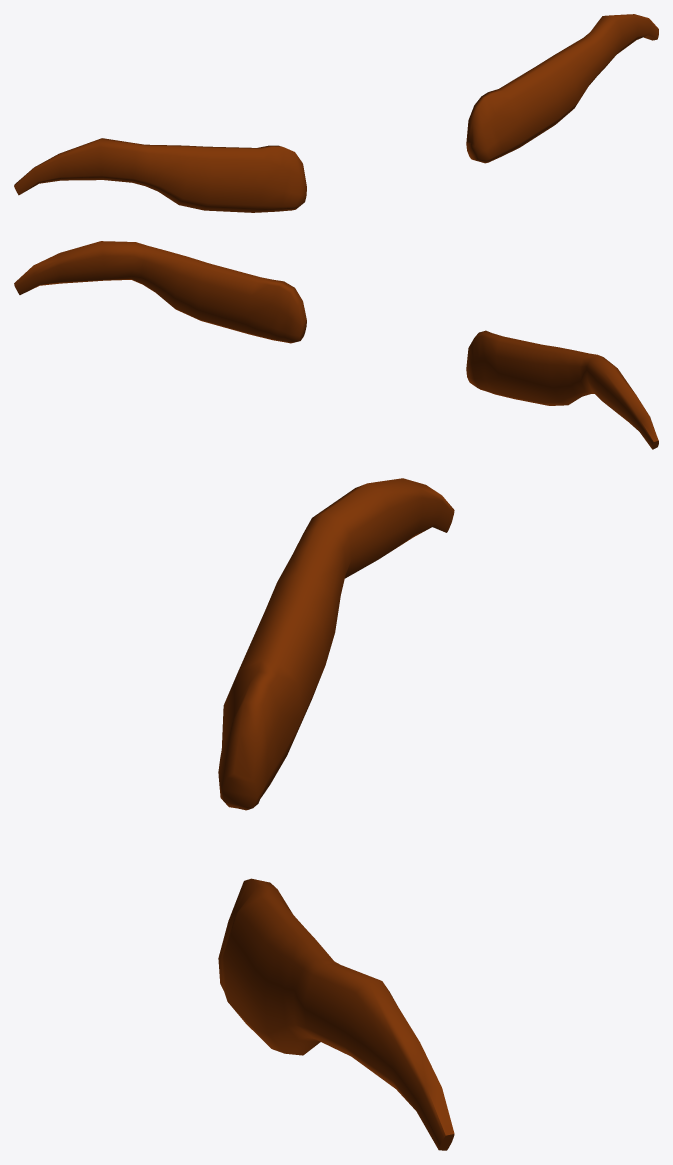
File: Eyebrows_07_02.fbx
3 views of the same model, one above another, from view 1: azimuth 30°, elevation 25°; view 2: azimuth 150°, elevation 25°; view 3: azimuth 270°, elevation 25° (orthographic). The views are drawn at different scales.
Visible parts, largest first — view 1: Eyebrows_07_02; view 2: Eyebrows_07_02; view 3: Eyebrows_07_02.
Part boxes in pixels (x1=…): Eyebrows_07_02: x1=14, y1=14, x2=658, y2=212; Eyebrows_07_02: x1=14, y1=241, x2=658, y2=449; Eyebrows_07_02: x1=218, y1=478, x2=454, y2=1150.
Bounding box in the file's own units: 19.46 × 2.46 × 3.09.
